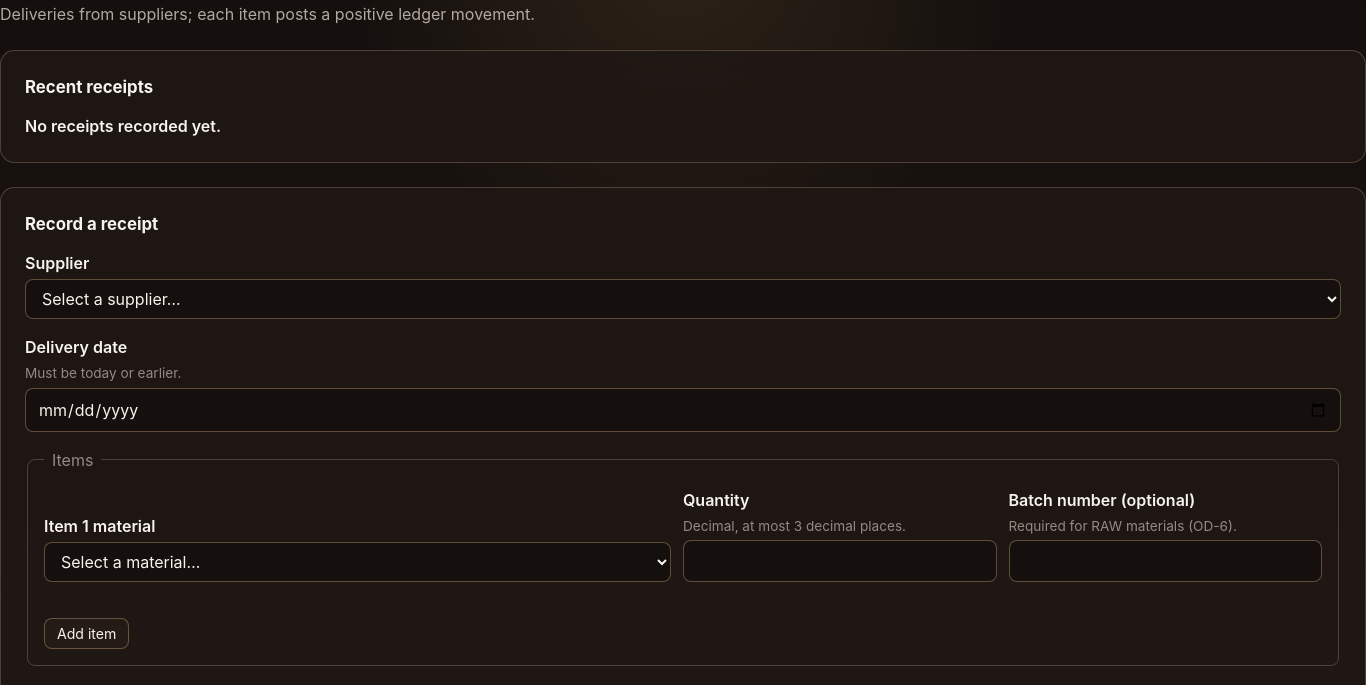
Test case: ReceiptsPage › surfaces backend field errors on submit
Select "Roastery Co" in the dropdown labelled "Supplier" at (683,299), box x1=25 y1=279 x2=1341 y2=319
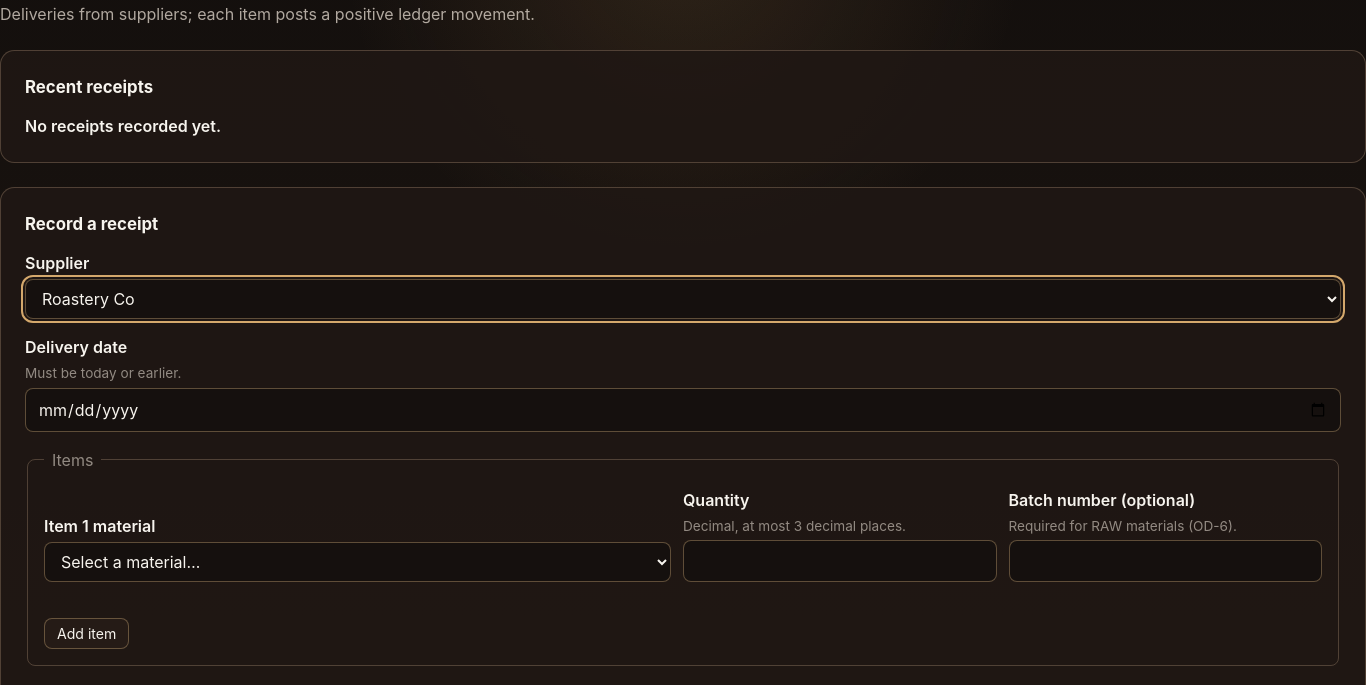
Type "2026-10-12" into the date field labelled "Delivery date" at (683,410), box x1=25 y1=388 x2=1341 y2=432
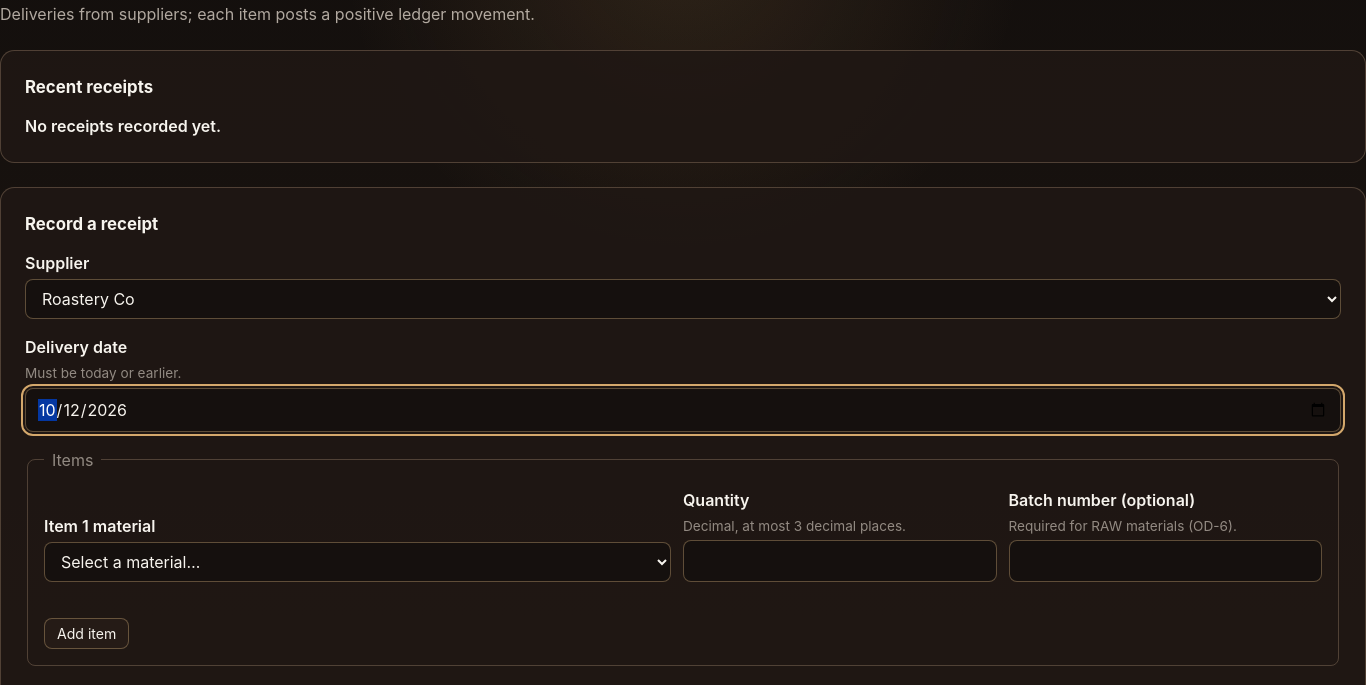
Select "Espresso beans (g)" in the dropdown labelled "Item 1 material" at (358,562), box x1=44 y1=542 x2=671 y2=582
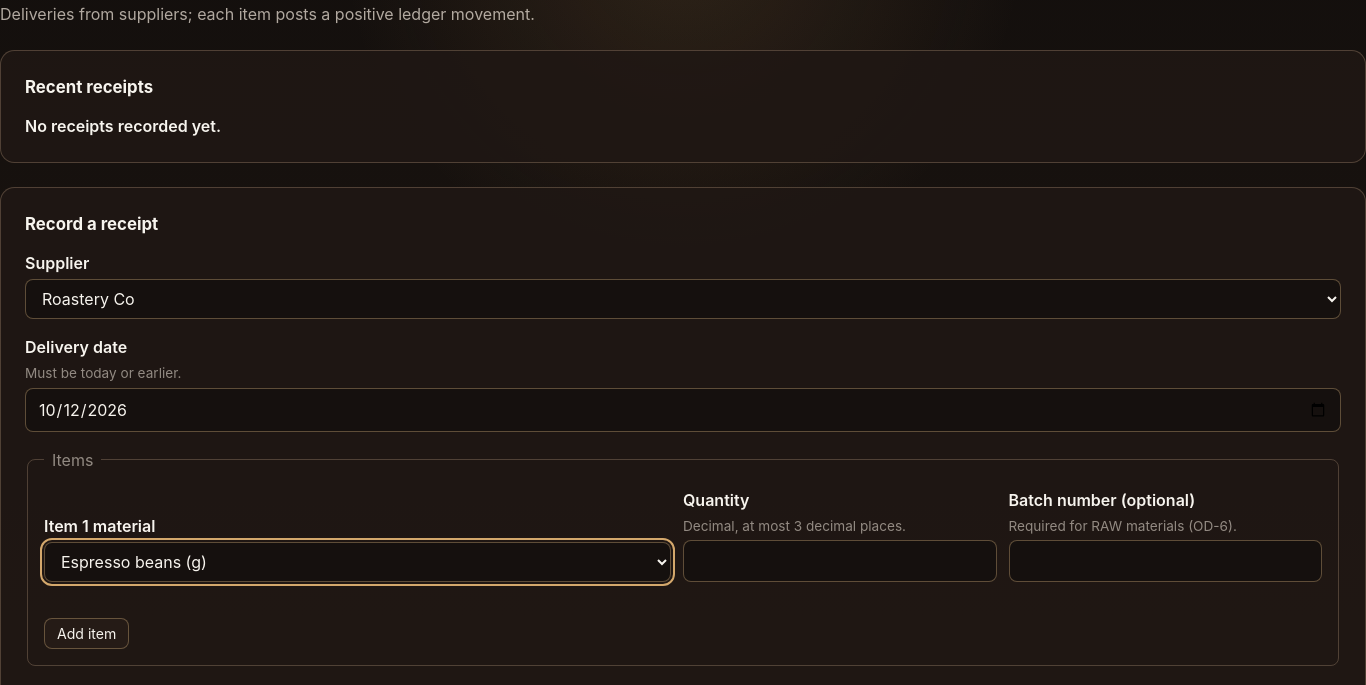
Type "0" into the field labelled "Quantity" at (840,561), box x1=683 y1=540 x2=996 y2=582
(page scrolled)
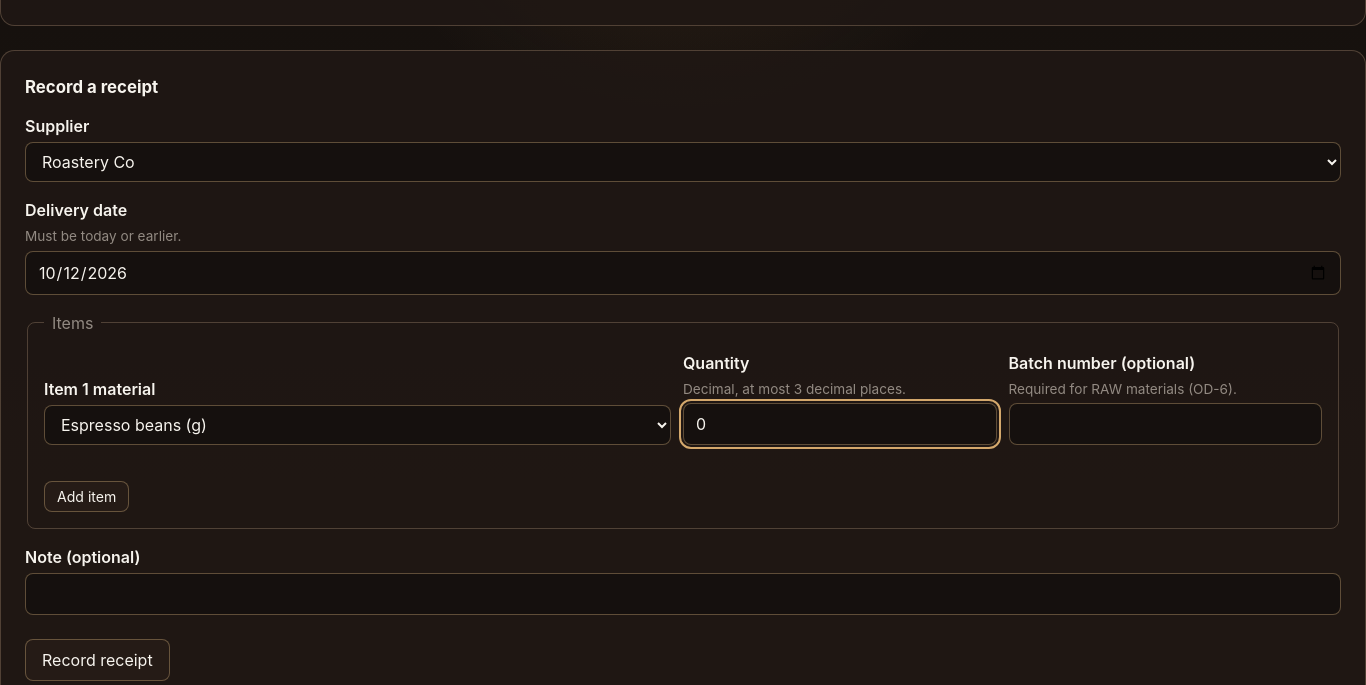
Click the button "Record receipt" at (97,660), box x1=25 y1=639 x2=170 y2=681
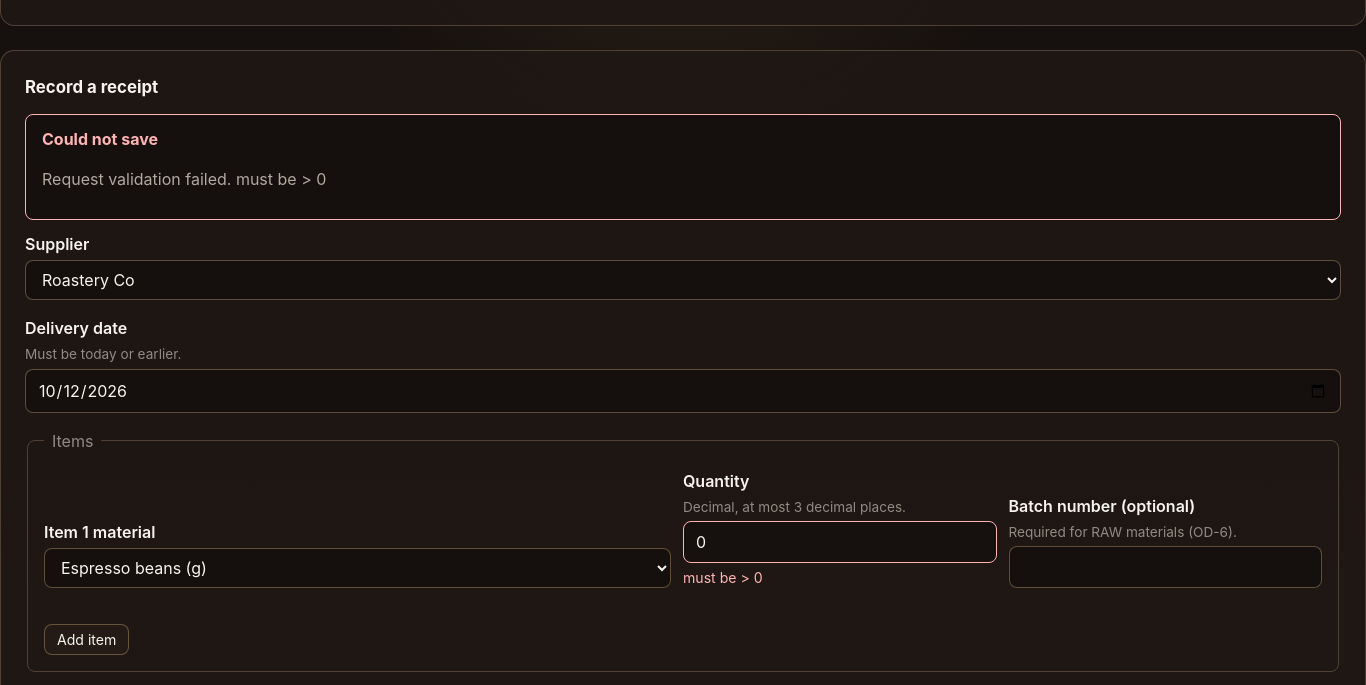
Check: the text "Could not save" is shown, box x1=42 y1=129 x2=158 y2=149
Check: the text "must be > 0" is shown, box x1=683 y1=569 x2=763 y2=586
